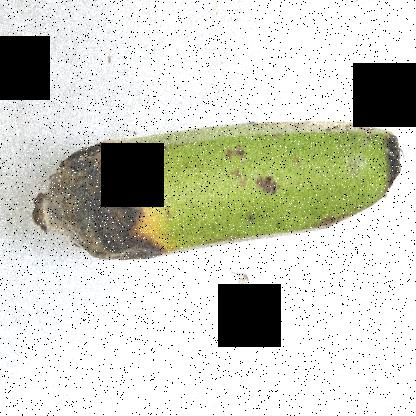rotten: (19, 150, 202, 278)
unripe: (174, 84, 408, 264)
